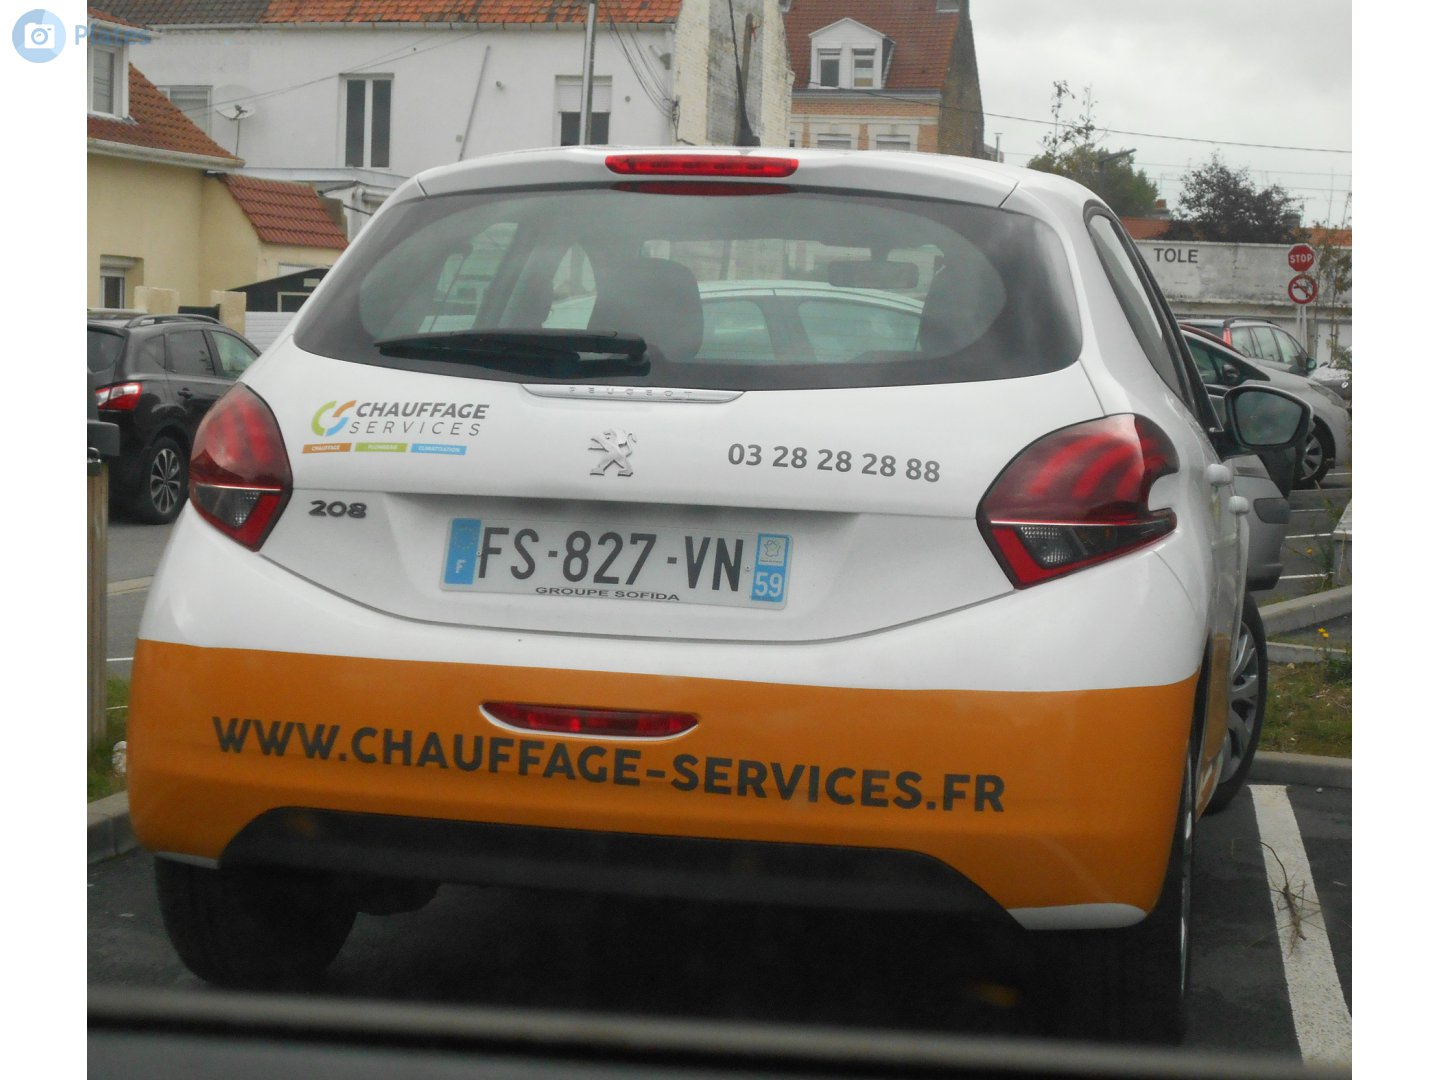licence plate: (437, 512, 795, 616)
